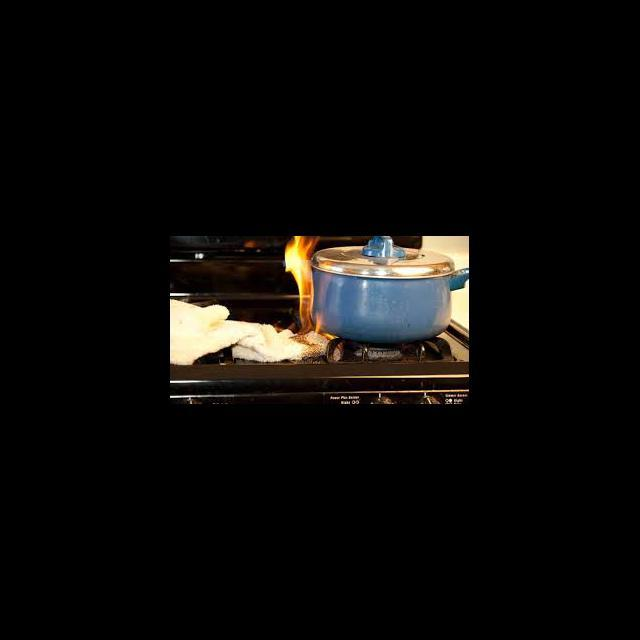Fire: (282, 237, 344, 351)
